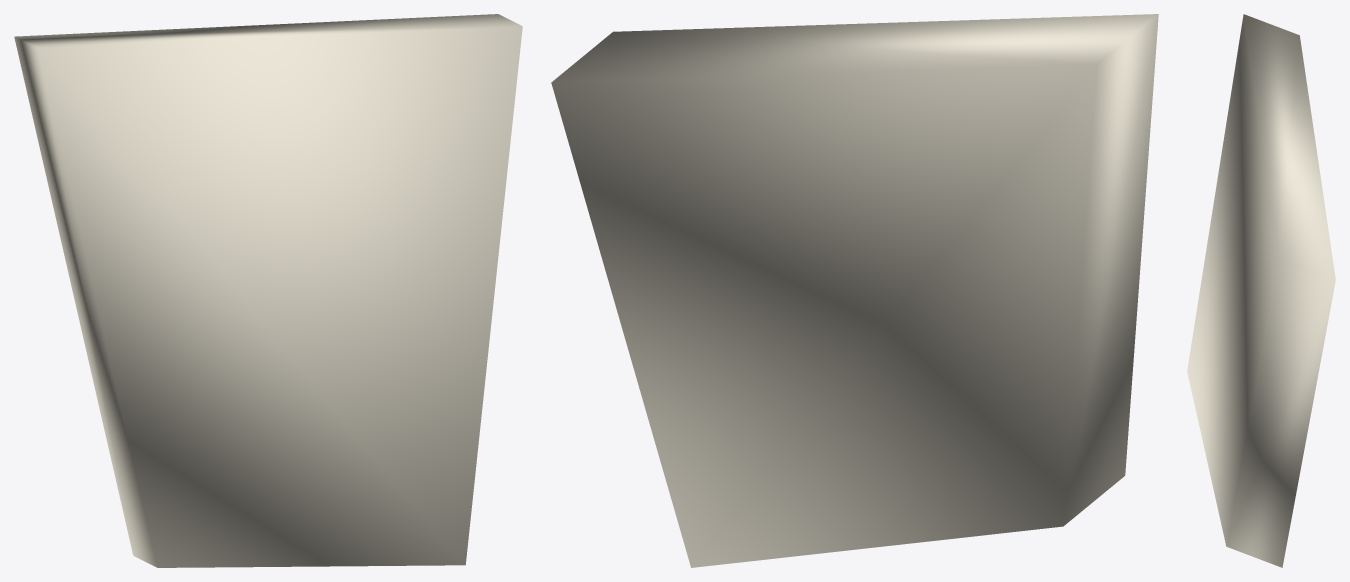
3 renders of one model, left to right at view 1: azimuth 30°, elevation 25°; view 2: azimuth 150°, elevation 25°; view 3: azimuth 270°, elevation 25°, orthographic. The views are drawn at different scales.
Parts seen in each view (by area): view 1: ZA_851049b7e5560f83; view 2: ZA_851049b7e5560f83; view 3: ZA_851049b7e5560f83.
Boxes of the visible parts, left/top/right/bottom form: ZA_851049b7e5560f83: left=14, top=14, right=522, bottom=567; ZA_851049b7e5560f83: left=551, top=14, right=1158, bottom=567; ZA_851049b7e5560f83: left=1187, top=14, right=1335, bottom=567.
Size of the model in its own units: 0.00472 by 0.00537 by 0.00175.
